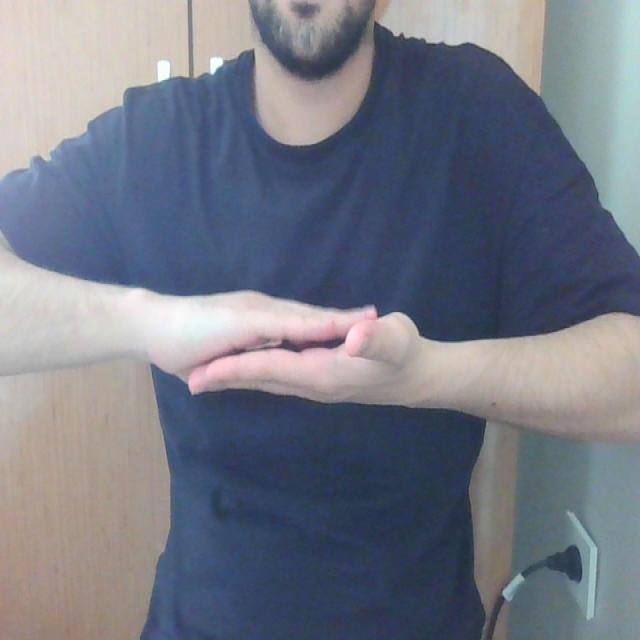Arkadas: (2, 275, 640, 416)
